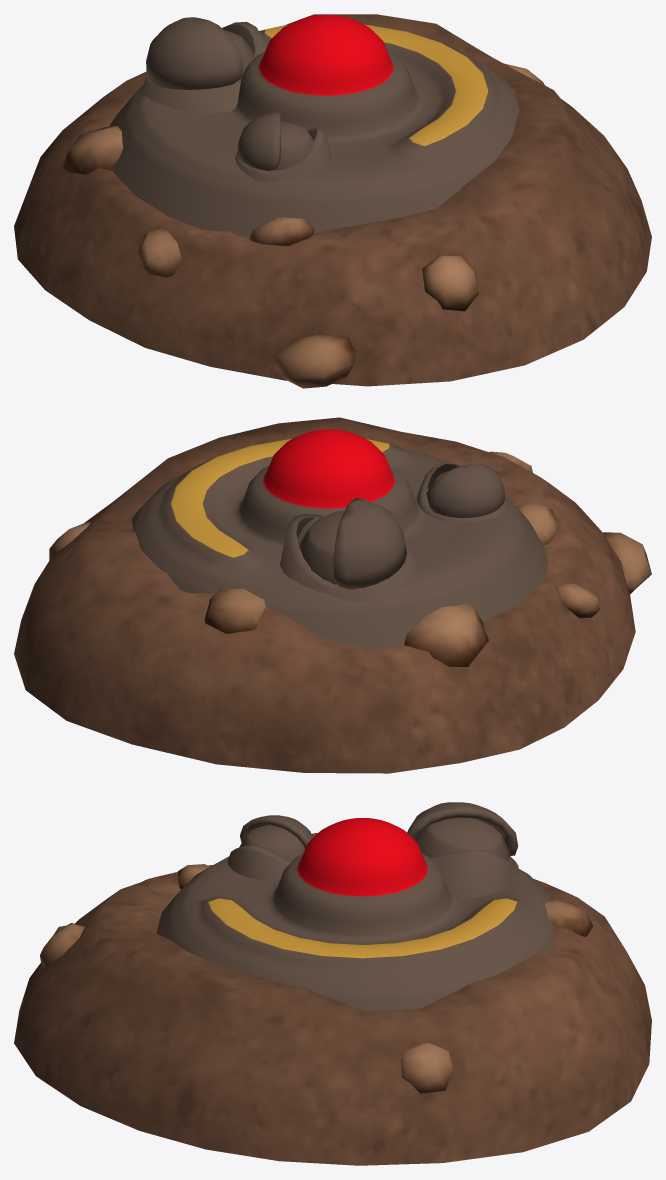
Rendered from bomba_in_da_ground.fbx.
3 renders of one model, top to bottom at view 1: azimuth 30°, elevation 25°; view 2: azimuth 150°, elevation 25°; view 3: azimuth 270°, elevation 25°, orthographic. The views are drawn at different scales.
Parts seen in each view (by area): view 1: dirtpile.005, bomba_new; view 2: dirtpile.005, bomba_new; view 3: dirtpile.005, bomba_new.
Boxes of the visible parts, left/top/right/bottom form: dirtpile.005: left=14, top=14, right=651, bottom=388; bomba_new: left=110, top=14, right=519, bottom=238; dirtpile.005: left=14, top=417, right=651, bottom=773; bomba_new: left=131, top=429, right=547, bottom=650; dirtpile.005: left=14, top=864, right=651, bottom=1165; bomba_new: left=156, top=802, right=553, bottom=1011.
Size of the model in its own units: 444 by 178 by 471.
